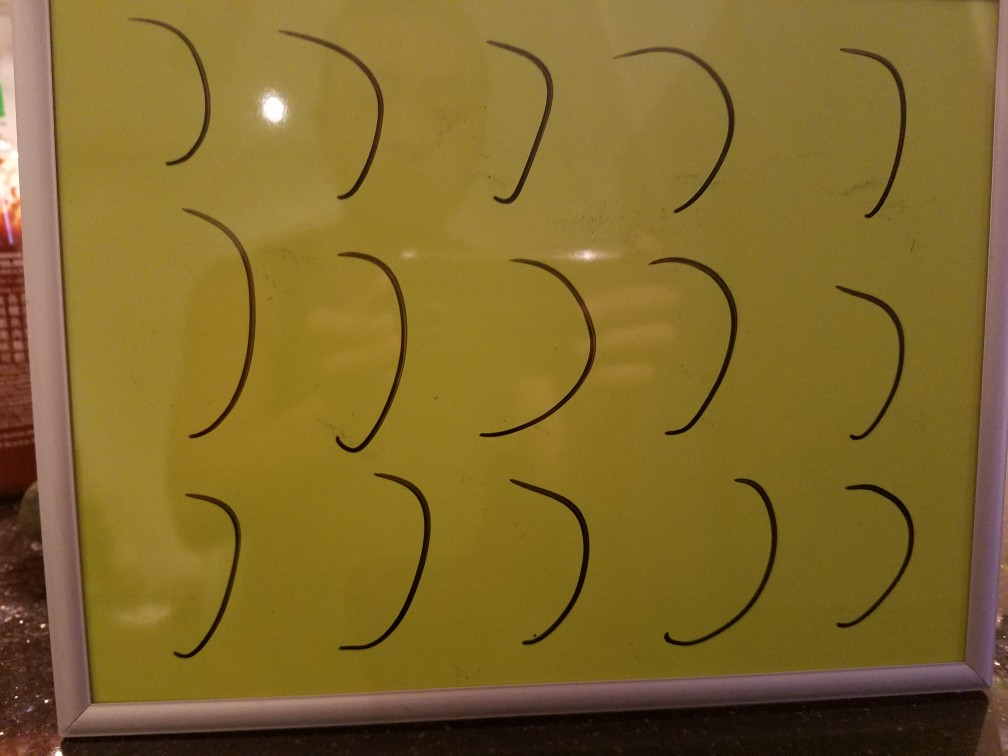): (158, 198, 289, 451), (259, 15, 407, 206), (471, 241, 601, 454), (601, 28, 744, 212), (652, 466, 788, 654), (638, 244, 753, 450), (324, 463, 440, 663), (316, 227, 411, 460), (495, 464, 601, 657), (826, 33, 922, 226), (116, 6, 223, 176), (150, 486, 251, 664), (470, 24, 560, 213), (821, 269, 913, 451), (827, 469, 920, 644)
